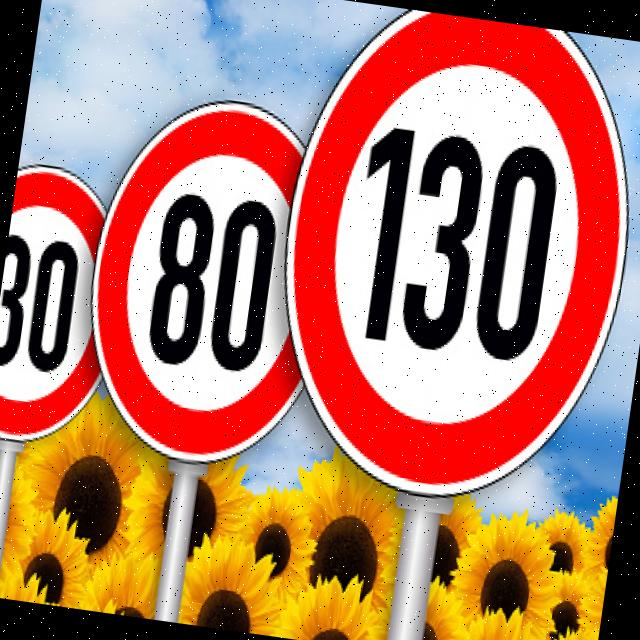speed_limit_30: (0, 154, 129, 448)
speed_limit_80: (70, 86, 341, 486)
